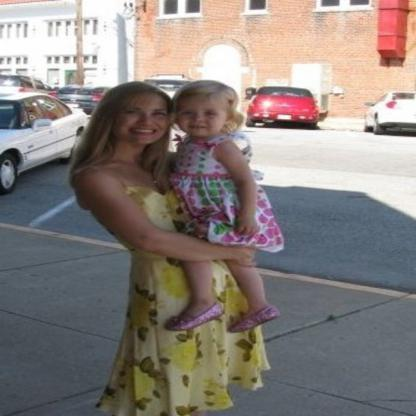car: (0, 91, 97, 190), (244, 80, 322, 124), (362, 92, 414, 132), (47, 84, 115, 112), (3, 73, 65, 94)
